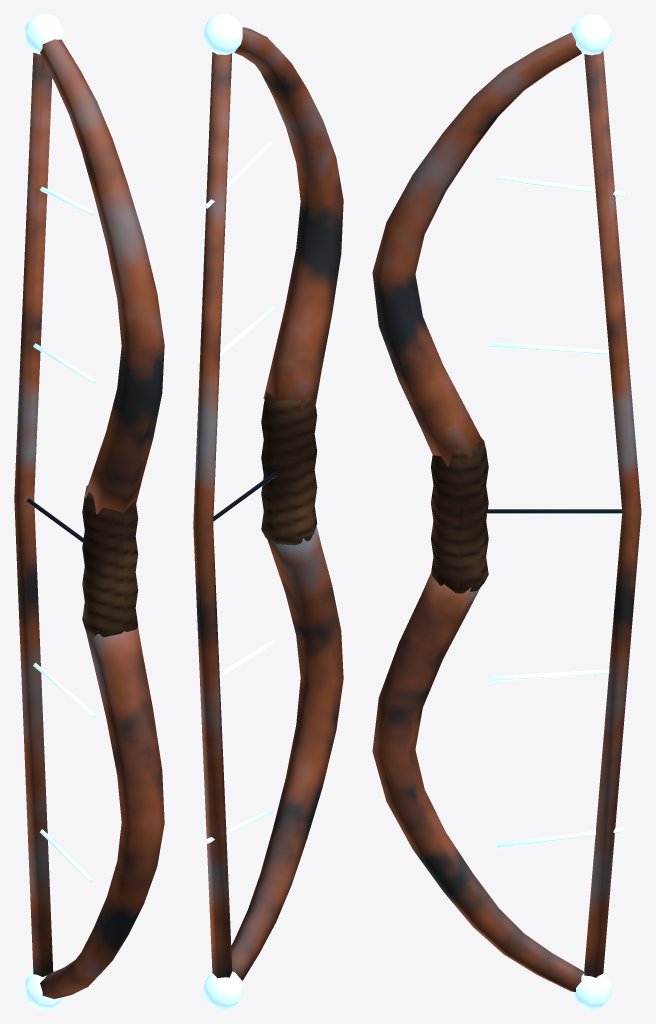
File: ThunderstringHarp.fbx
3 views of the same model, side by side, from view 1: azimuth 30°, elevation 25°; view 2: azimuth 150°, elevation 25°; view 3: azimuth 270°, elevation 25° (orthographic).
Parts seen in each view (by area): view 1: ThunderstringHarp; view 2: ThunderstringHarp; view 3: ThunderstringHarp.
Boxes of the visible parts, <box> form: ThunderstringHarp: <box>14,14,164,1009</box>; ThunderstringHarp: <box>193,14,343,1009</box>; ThunderstringHarp: <box>372,14,641,1009</box>.
Bounding box in the file's own units: 0.044 × 0.832 × 0.2043.
